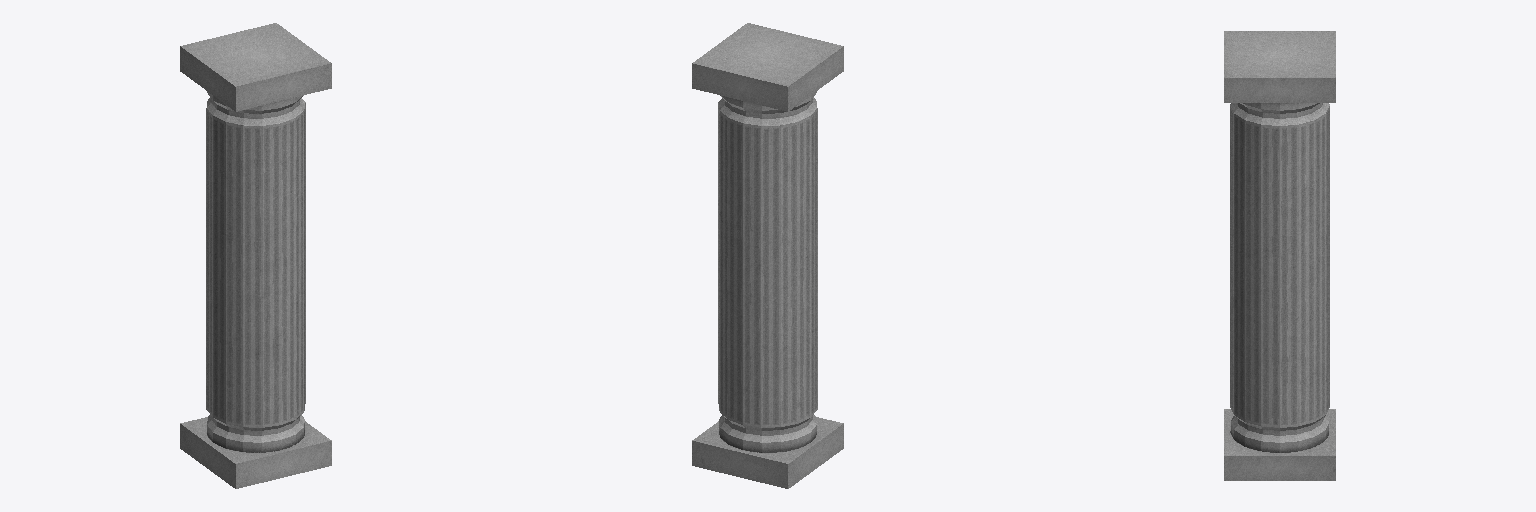
3 renders of one model, left to right at view 1: azimuth 30°, elevation 25°; view 2: azimuth 150°, elevation 25°; view 3: azimuth 270°, elevation 25°, orthographic.
Visible parts, largest first — view 1: old-column_old-column_auv; view 2: old-column_old-column_auv; view 3: old-column_old-column_auv.
Boxes of the visible parts, x1,y1,x2,y2 form: old-column_old-column_auv: [180, 23, 331, 488]; old-column_old-column_auv: [692, 23, 843, 488]; old-column_old-column_auv: [1224, 31, 1335, 480].
Bounding box in the file's own units: 2 × 8 × 2.
Materials: 1 (1 with a texture image).